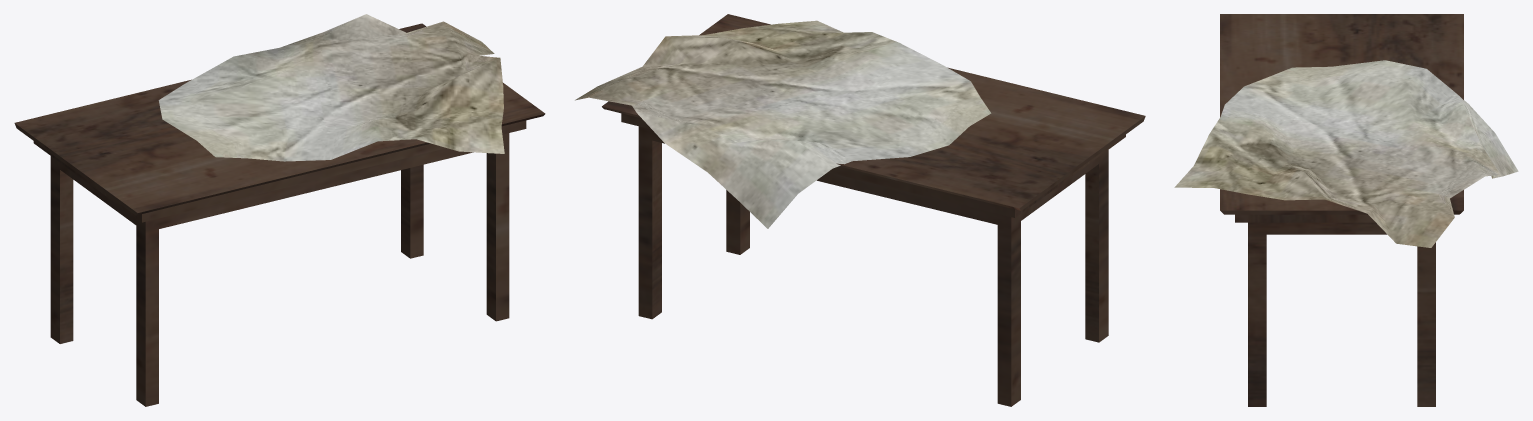
File: roach_dinner_table.FBX
3 views of the same model, side by side, from view 1: azimuth 30°, elevation 25°; view 2: azimuth 150°, elevation 25°; view 3: azimuth 270°, elevation 25° (orthographic). The views are drawn at different scales.
Parts seen in each view (by area): view 1: roach_table; view 2: roach_table; view 3: roach_table.
Part boxes in pixels (bbox=[...]): roach_table: bbox=[14, 14, 545, 406]; roach_table: bbox=[575, 14, 1145, 406]; roach_table: bbox=[1174, 14, 1518, 406].
Bounding box in the file's own units: 163 × 78.47 × 109.
